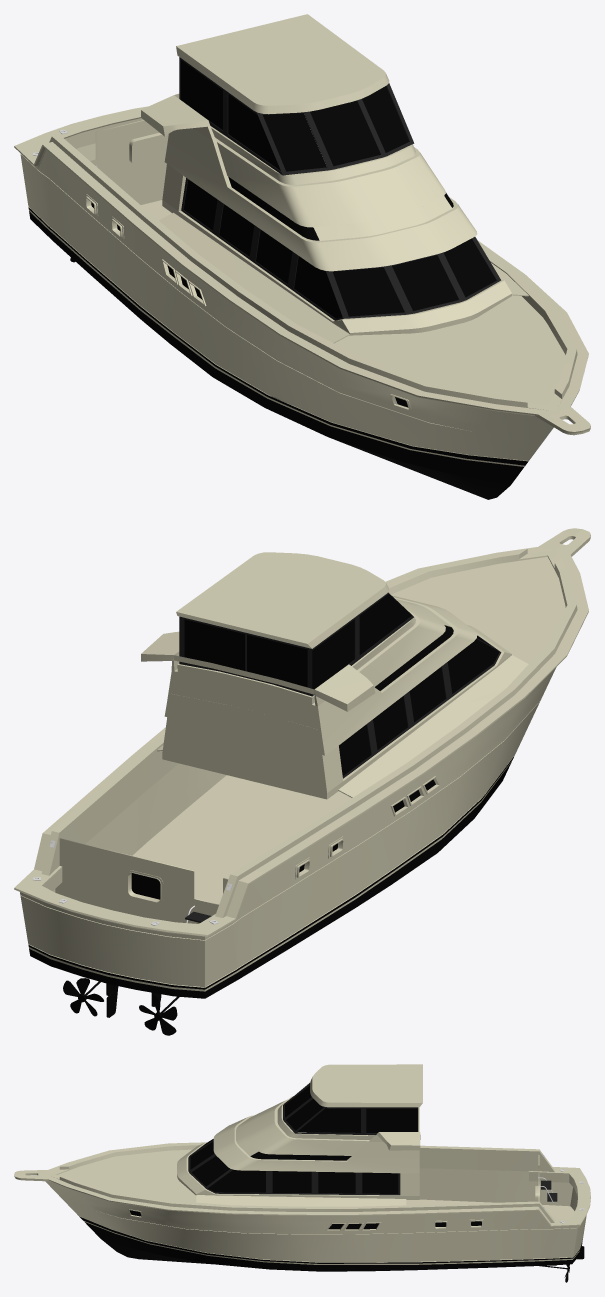
The model's file is hatteras-full-v2.glb.
3 views of the same model, one above another, from view 1: azimuth 30°, elevation 25°; view 2: azimuth 150°, elevation 25°; view 3: azimuth 270°, elevation 25° (orthographic). The views are drawn at different scales.
Parts seen in each view (by area): view 1: hull, flybridge, Saloon, Deck; view 2: hull, flybridge, Deck, Saloon; view 3: hull, flybridge, Saloon, Deck.
Part boxes in pixels (x1,y1,x2,y2): hull: (14,106,590,499); flybridge: (141,14,445,227); Saloon: (162,137,511,335); Deck: (65,120,565,405); hull: (14,528,590,1035); flybridge: (141,552,445,730); Deck: (55,556,565,923); Saloon: (162,595,511,799); hull: (14,1142,590,1282); flybridge: (245,1064,422,1157); Saloon: (177,1114,419,1199); Deck: (57,1145,574,1219).
Bounding box in the file's own units: 5.7 × 6.8 × 19.2.
